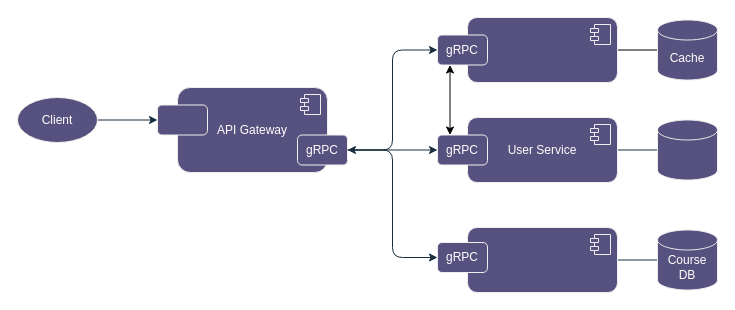
This 735x310 diagram has some shape labels left out. Each missing label, with the centre of its shape:
Auth Service: pixel 542 49
Course Service: pixel 542 259
REST: pixel 182 119
User DB: pixel 687 149
